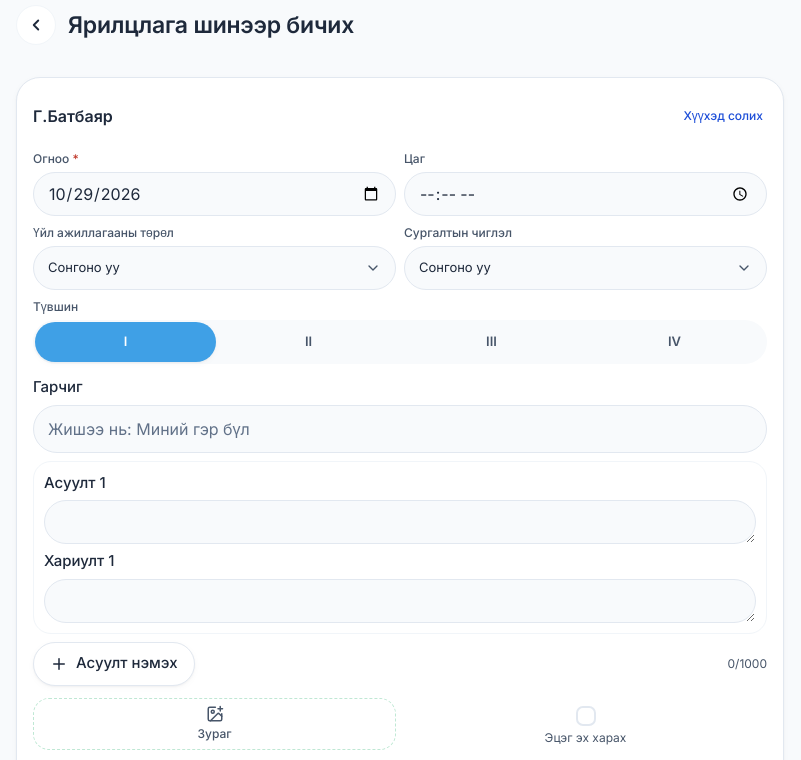
Test: the conversation form › removes a pair after the first, and never the first
Expected: the text box labelled "Асуулт 1" is shown, x1=44 y1=500 x2=756 y2=544
Click the button "Асуулт нэмэх" at {"x": 114, "y": 664}, box x1=33 y1=642 x2=195 y2=686
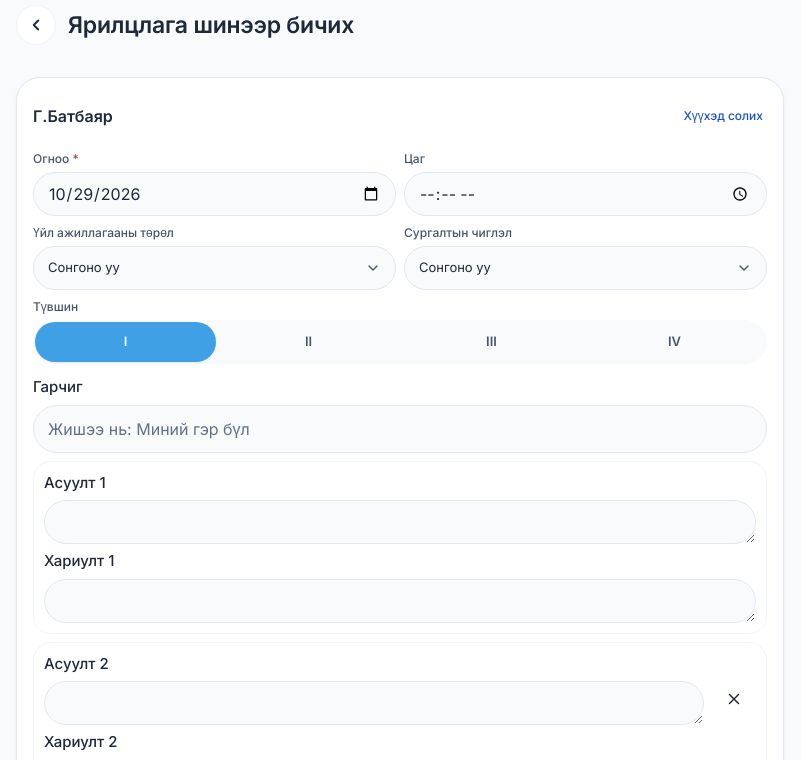
Click the button named "Асуулт 2-ийг хасах" at {"x": 734, "y": 698}, box x1=712 y1=676 x2=756 y2=720
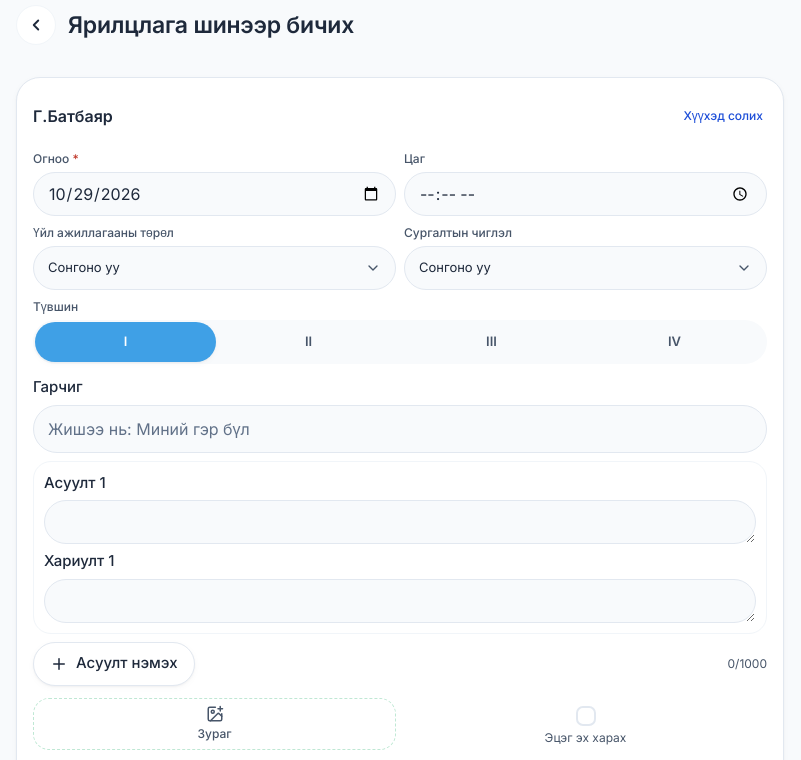
Result: the label labelled "Асуулт 2" is gone
